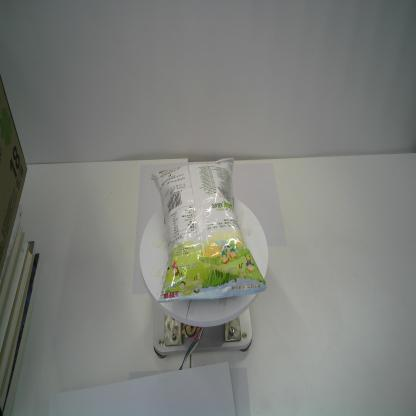Puffed Food: (149, 156, 269, 305)
